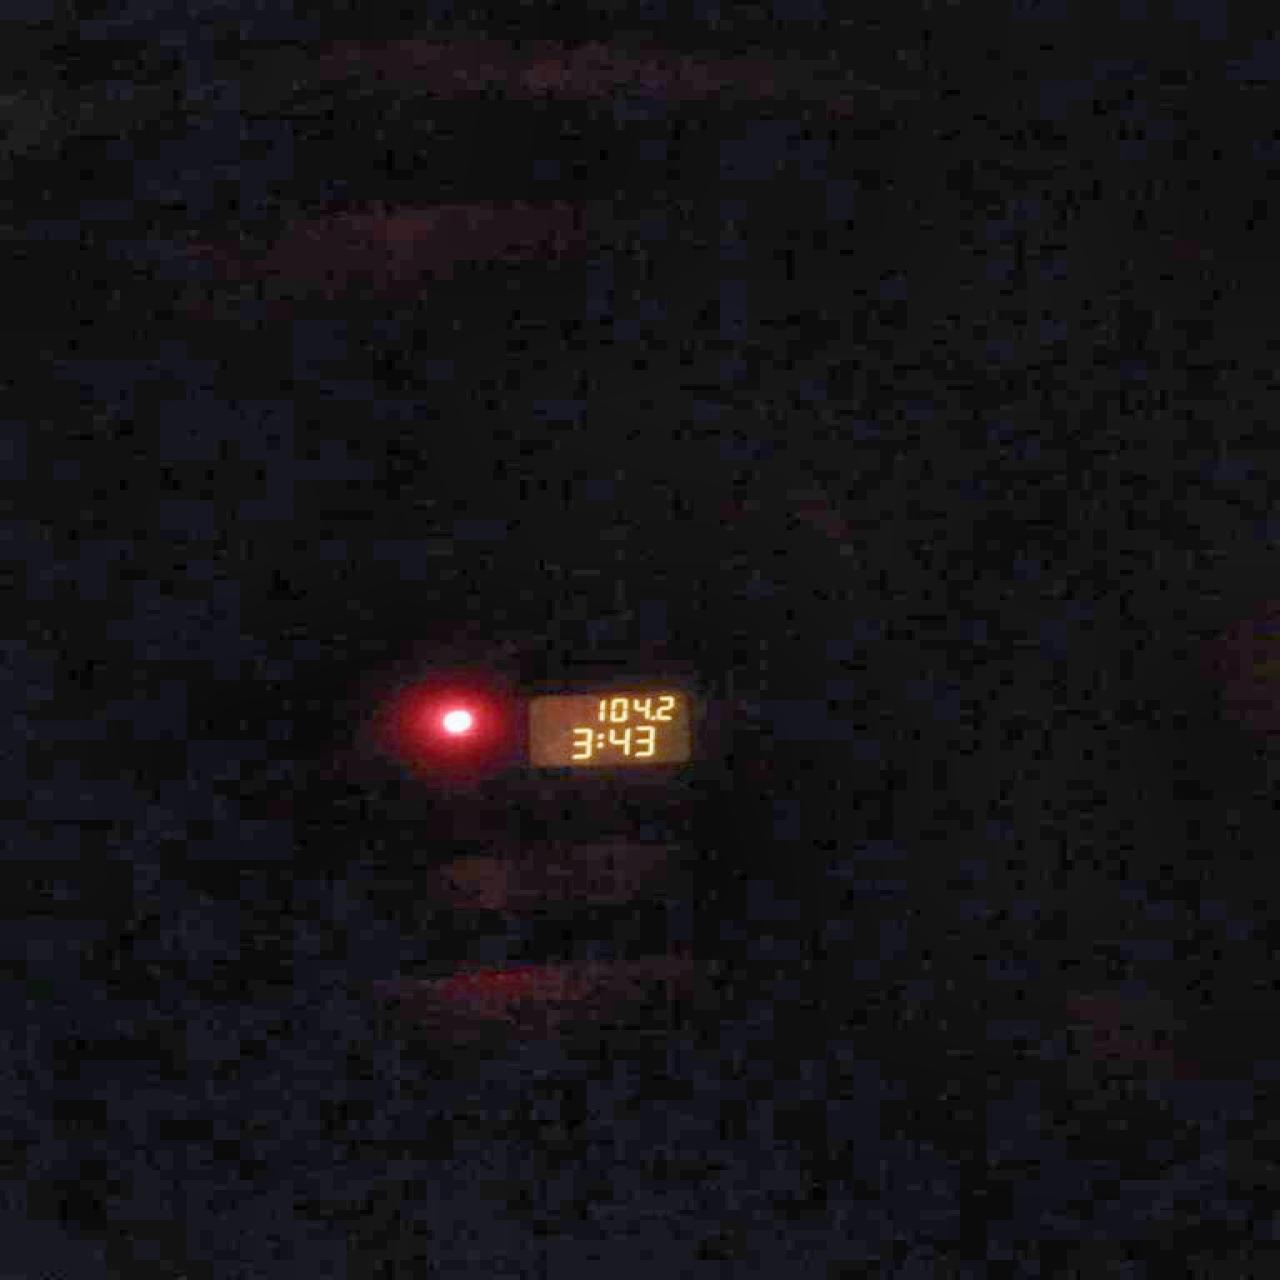-: (648, 714, 655, 721)
0: (608, 696, 627, 722)
1: (593, 696, 605, 722)
2: (654, 694, 674, 721)
3: (632, 722, 655, 757), (568, 726, 592, 760)
4: (607, 726, 631, 756), (629, 695, 651, 719)
X: (593, 730, 605, 749)
odometer: (520, 685, 696, 769)
